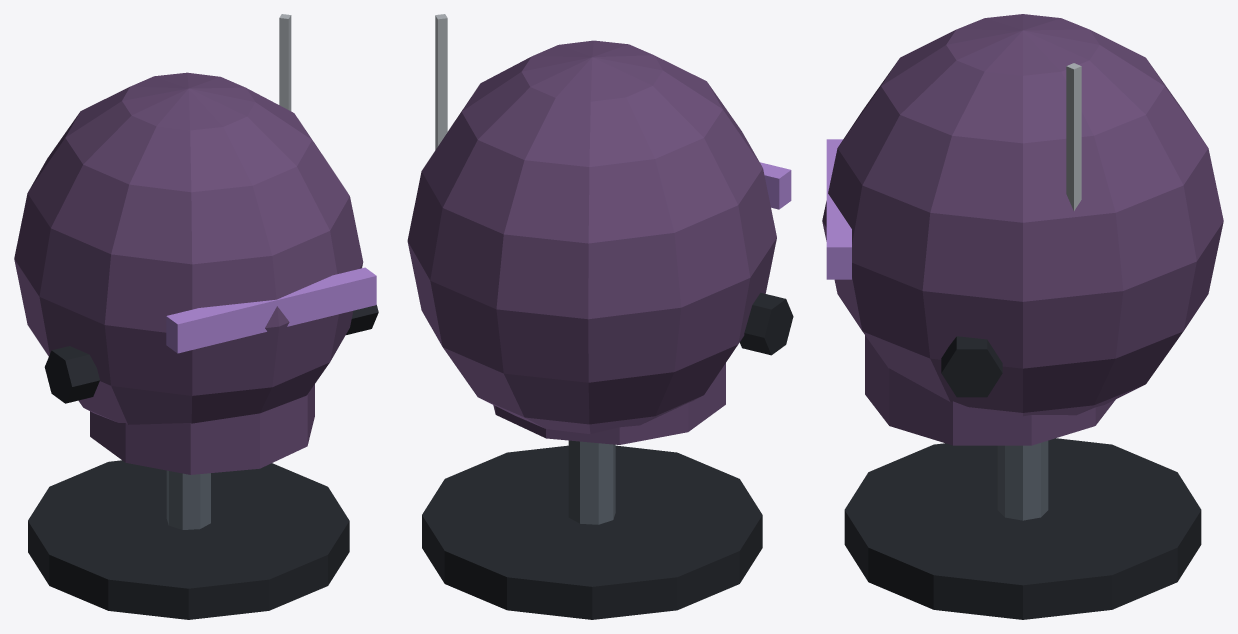
Rendered from jensaarai-headgear.glb.
The picture shows the model from 3 angles, left to right: view 1: azimuth 30°, elevation 25°; view 2: azimuth 150°, elevation 25°; view 3: azimuth 270°, elevation 25°; orthographic projection. The views are drawn at different scales.
Parts seen in each view (by area): view 1: m; view 2: m; view 3: m.
Boxes of the visible parts, left/top/right/bottom form: m: left=14, top=14, right=378, bottom=619; m: left=407, top=14, right=793, bottom=619; m: left=822, top=14, right=1223, bottom=619.
Bounding box in the file's own units: 0.1311 × 0.2 × 0.134.
